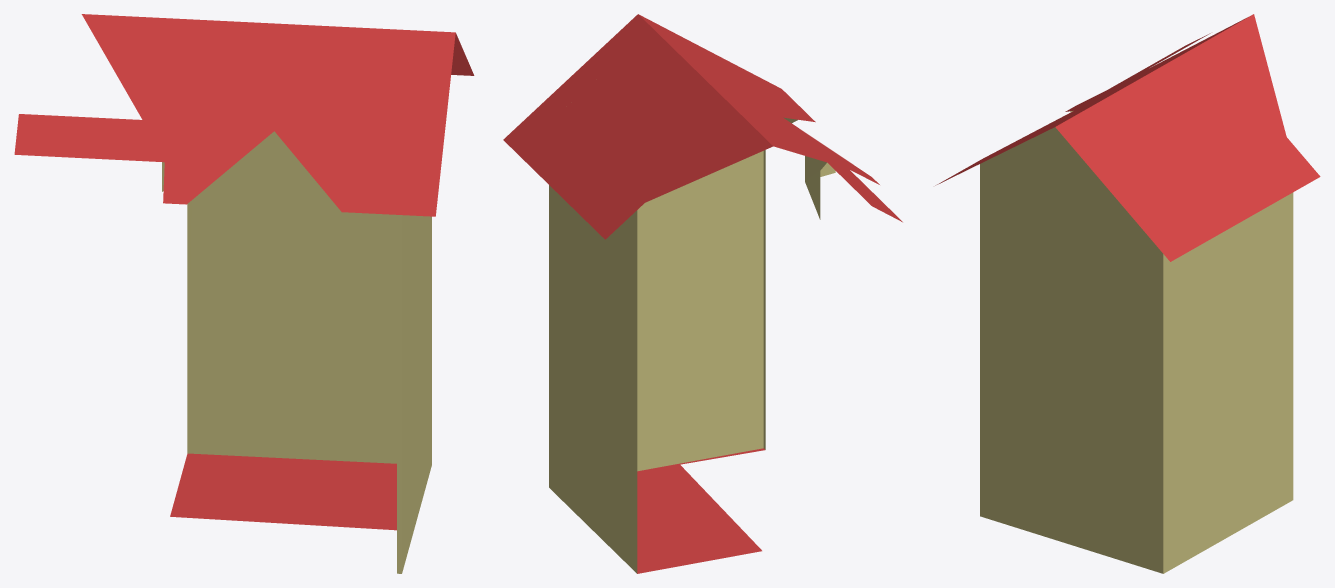
The picture shows the model from 3 angles, left to right: view 1: azimuth 30°, elevation 25°; view 2: azimuth 150°, elevation 25°; view 3: azimuth 270°, elevation 25°; orthographic projection. The views are drawn at different scales.
Bounding box in the file's own units: 13.55 × 11.42 × 13.98.
